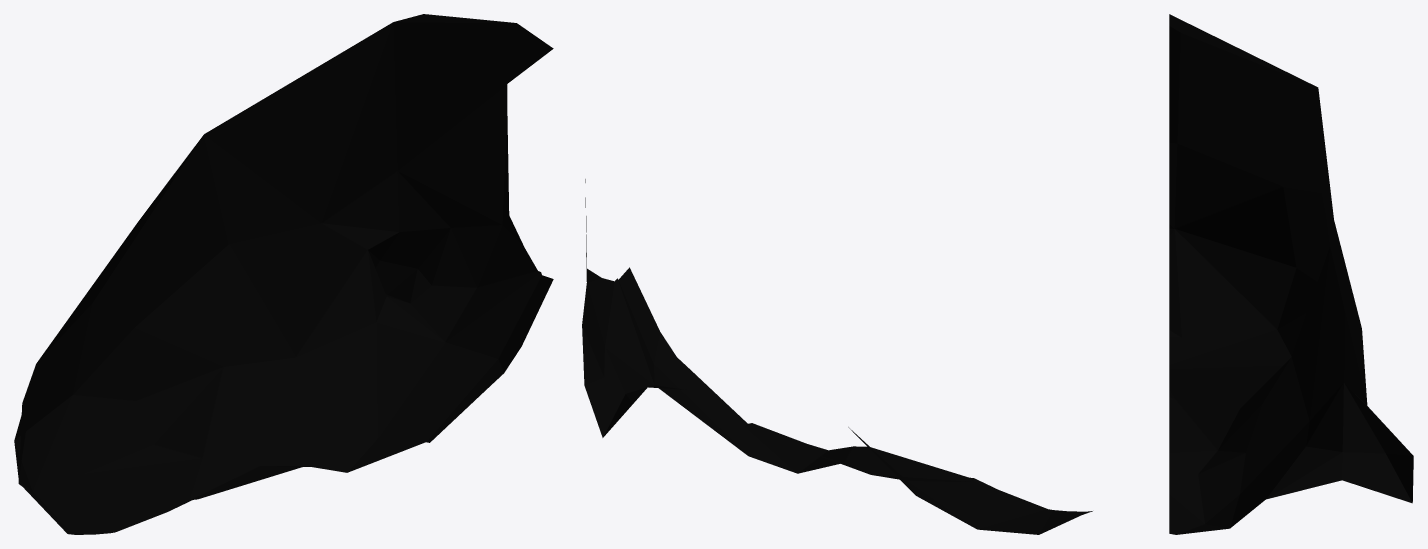
3 views of the same model, side by side, from view 1: azimuth 30°, elevation 25°; view 2: azimuth 150°, elevation 25°; view 3: azimuth 270°, elevation 25° (orthographic). The views are drawn at different scales.
Bounding box in the file's own units: 1.02 × 0.8291 × 0.3446.
1 material, 1 textured.
